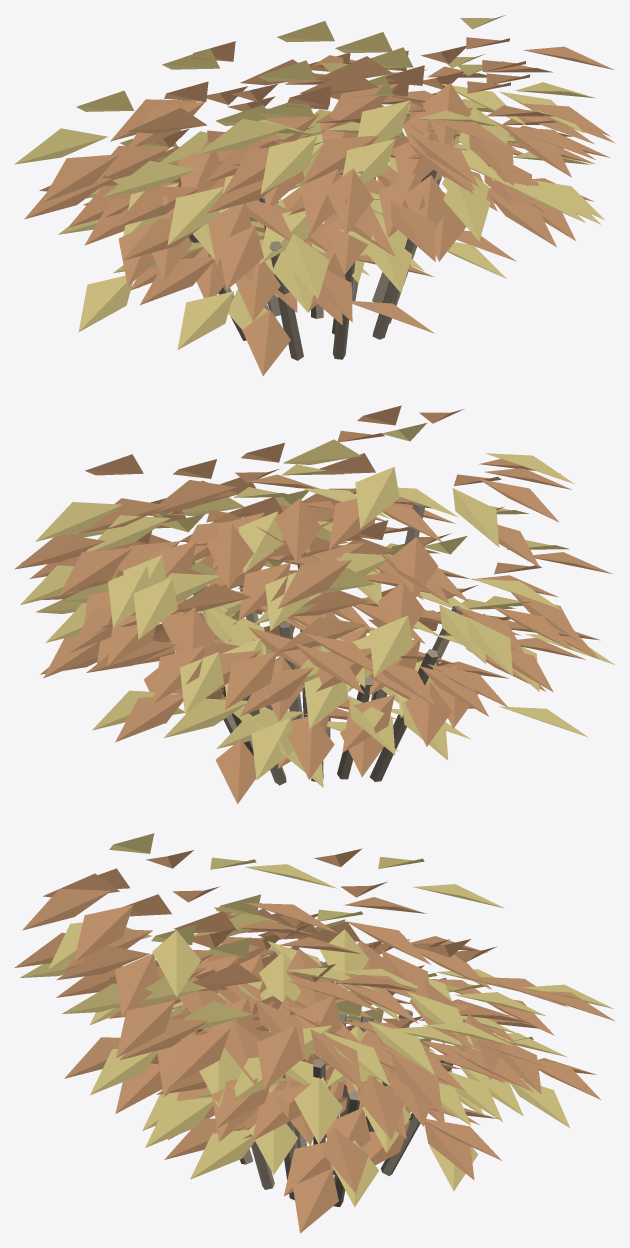
The model's file is dining-croton.glb.
The picture shows the model from 3 angles, top to bottom: view 1: azimuth 30°, elevation 25°; view 2: azimuth 150°, elevation 25°; view 3: azimuth 270°, elevation 25°; orthographic projection. The views are drawn at different scales.
Visible parts, largest first — view 1: dining-croton; view 2: dining-croton; view 3: dining-croton.
Boxes of the visible parts, left/top/right/bottom form: dining-croton: left=14, top=15, right=615, bottom=375; dining-croton: left=14, top=405, right=614, bottom=803; dining-croton: left=14, top=833, right=614, bottom=1233.
Size of the model in its own units: 1.67 by 0.8325 by 1.59.
